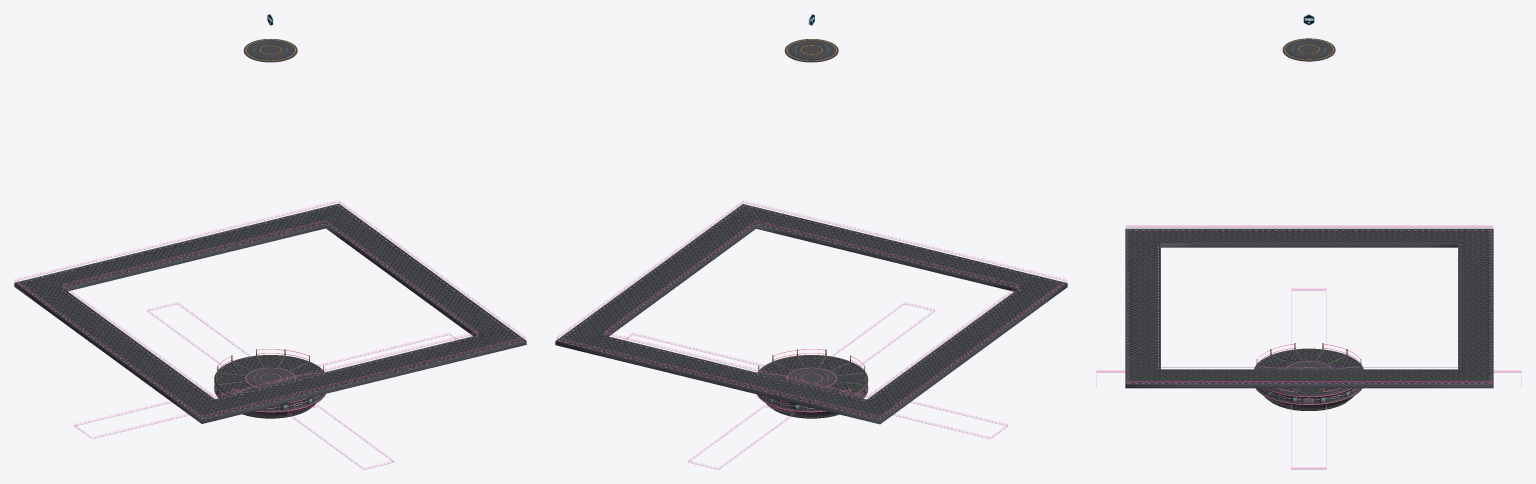
Rendered from map6.glb.
The picture shows the model from 3 angles, left to right: view 1: azimuth 30°, elevation 25°; view 2: azimuth 150°, elevation 25°; view 3: azimuth 270°, elevation 25°; orthographic projection.
Parts seen in each view (by area): view 1: PlatformMiddle, Platform1_4.006, Platform1_4.002, Platform1_4.003, Platform1_4.004, PlatformBack, Platform1_1.013, Platform1_1.032, Platform1_1.017, Platform1_1.006, Platform1_1.018, Platform1_1.033 (+23 smaller); view 2: PlatformMiddle, Platform1_4.004, Platform1_4.003, Platform1_4.002, Platform1_4.006, PlatformBack, Platform1_1.017, Platform1_1.018, Platform1_1.004, Platform1_1.036, Platform1_1.023, Platform1_1.024 (+23 smaller); view 3: PlatformMiddle, Platform1_4.004, Platform1_4.006, Platform1_4.002, Platform1_4.003, PlatformBack, Platform1_1.020, Platform1_1.021, Platform1_1.019, Platform1_1.022, Platform1_1.027, Platform1_1.028 (+23 smaller).
Boxes of the visible parts, <box> form: PlatformMiddle: <box>214,356,325,418</box>; Platform1_4.006: <box>167,385,261,423</box>; Platform1_4.002: <box>449,313,526,359</box>; Platform1_4.003: <box>280,200,372,239</box>; Platform1_4.004: <box>14,265,91,311</box>; PlatformBack: <box>243,39,297,62</box>; Platform1_1.013: <box>221,221,268,249</box>; Platform1_1.032: <box>361,352,408,380</box>; Platform1_1.017: <box>104,250,150,278</box>; Platform1_1.006: <box>420,338,466,366</box>; Platform1_1.018: <box>74,257,121,285</box>; Platform1_1.033: <box>191,228,238,256</box>; PlatformMiddle: <box>757,356,868,418</box>; Platform1_4.004: <box>820,385,914,424</box>; Platform1_4.003: <box>555,312,632,359</box>; Platform1_4.002: <box>709,200,801,240</box>; Platform1_4.006: <box>990,265,1067,311</box>; PlatformBack: <box>784,39,838,62</box>; Platform1_1.017: <box>761,374,808,402</box>; Platform1_1.018: <box>791,382,837,409</box>; Platform1_1.004: <box>813,222,860,249</box>; Platform1_1.036: <box>703,360,749,388</box>; Platform1_1.023: <box>960,257,1007,285</box>; Platform1_1.024: <box>931,251,977,278</box>; PlatformMiddle: <box>1254,349,1363,410</box>; Platform1_4.004: <box>1426,225,1493,257</box>; Platform1_4.006: <box>1125,225,1192,257</box>; Platform1_4.002: <box>1125,355,1192,388</box>; Platform1_4.003: <box>1426,355,1493,388</box>; PlatformBack: <box>1282,38,1335,61</box>; Platform1_1.020: <box>1359,225,1392,247</box>; Platform1_1.021: <box>1226,225,1259,247</box>; Platform1_1.019: <box>1392,225,1425,247</box>; Platform1_1.022: <box>1193,225,1226,247</box>; Platform1_1.027: <box>1259,225,1292,247</box>; Platform1_1.028: <box>1292,225,1325,247</box>.
Size of what is drawn, in the model's own units: 76.68 by 75.68 by 76.68.
Materials: 8 (8 with a texture image).
